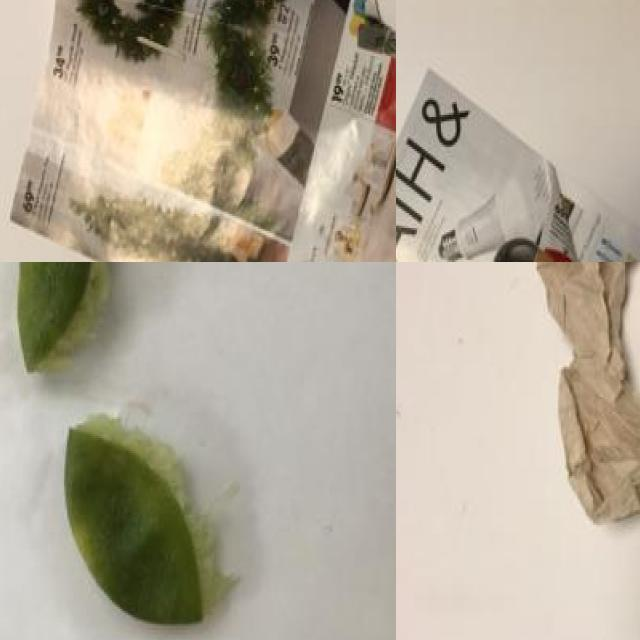compost: (0, 262, 250, 640)
paper: (20, 0, 396, 262), (396, 79, 640, 262)
trash: (512, 262, 640, 640)
